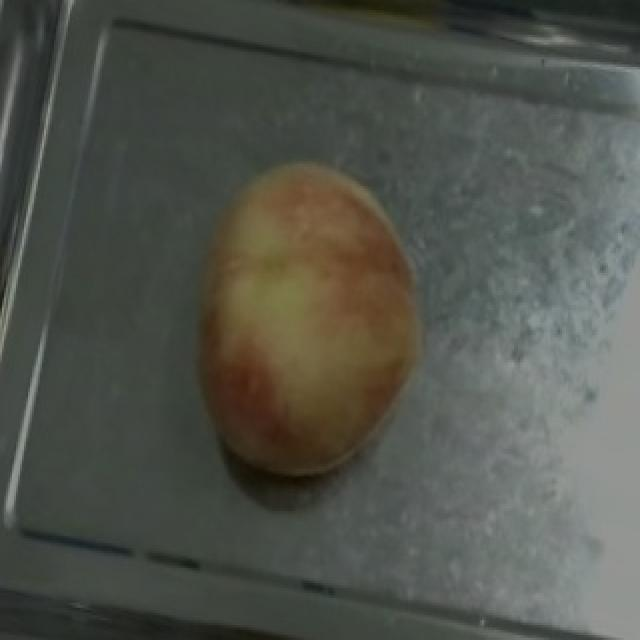Fruit: (156, 129, 450, 442)
